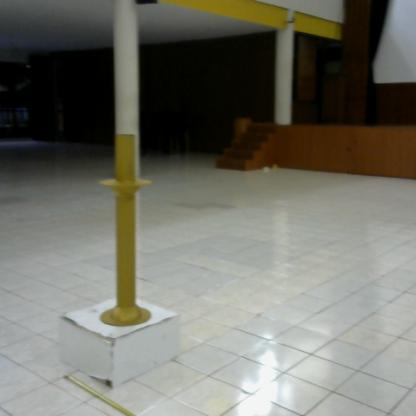pole: (94, 131, 155, 336)
